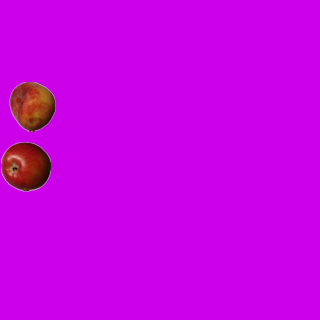Apple Braeburn: (0, 141, 50, 191)
Peach: (7, 81, 57, 131)
